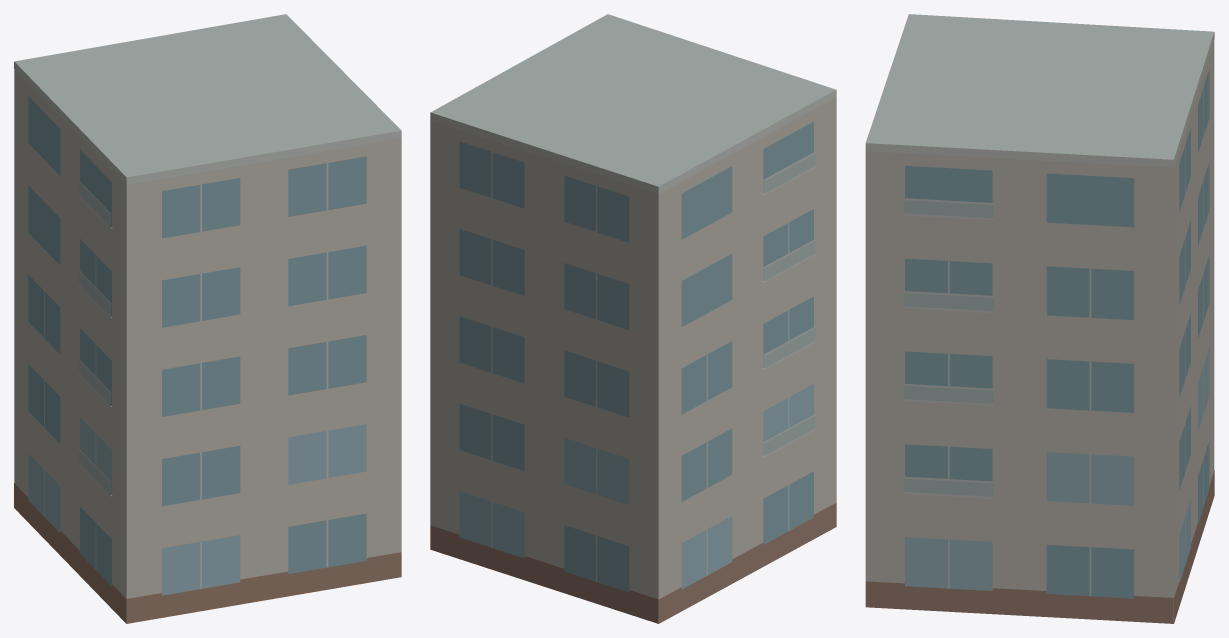
The model's file is survey-upis-32921143.glb.
3 views of the same model, side by side, from view 1: azimuth 30°, elevation 25°; view 2: azimuth 150°, elevation 25°; view 3: azimuth 270°, elevation 25° (orthographic). The views are drawn at different scales.
Parts seen in each view (by area): view 1: survey-upis-32921143.tmp; view 2: survey-upis-32921143.tmp; view 3: survey-upis-32921143.tmp.
Part boxes in pixels (box(x1,y1,x2,y2)): survey-upis-32921143.tmp: box(14, 14, 401, 623); survey-upis-32921143.tmp: box(430, 14, 836, 623); survey-upis-32921143.tmp: box(865, 14, 1214, 623).
Size of the model in its own units: 9.64 by 14.3 by 9.75.
